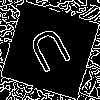U: (25, 25, 79, 83)
